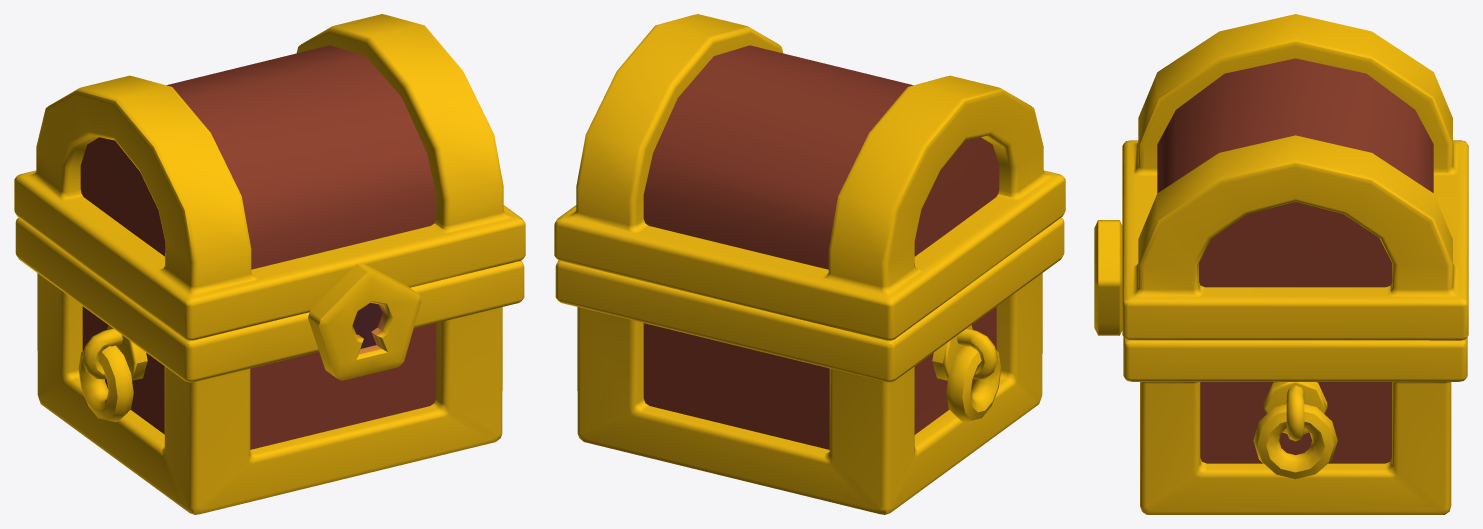
3 renders of one model, left to right at view 1: azimuth 30°, elevation 25°; view 2: azimuth 150°, elevation 25°; view 3: azimuth 270°, elevation 25°, orthographic.
Visible parts, largest first — view 1: model_0.112; view 2: model_0.112; view 3: model_0.112.
Boxes of the visible parts, box(x1,y1,x2,y2) form: model_0.112: box(14, 14, 525, 514); model_0.112: box(554, 14, 1065, 514); model_0.112: box(1094, 14, 1468, 514).
Bounding box in the file's own units: 4.07 × 3.76 × 3.59.
